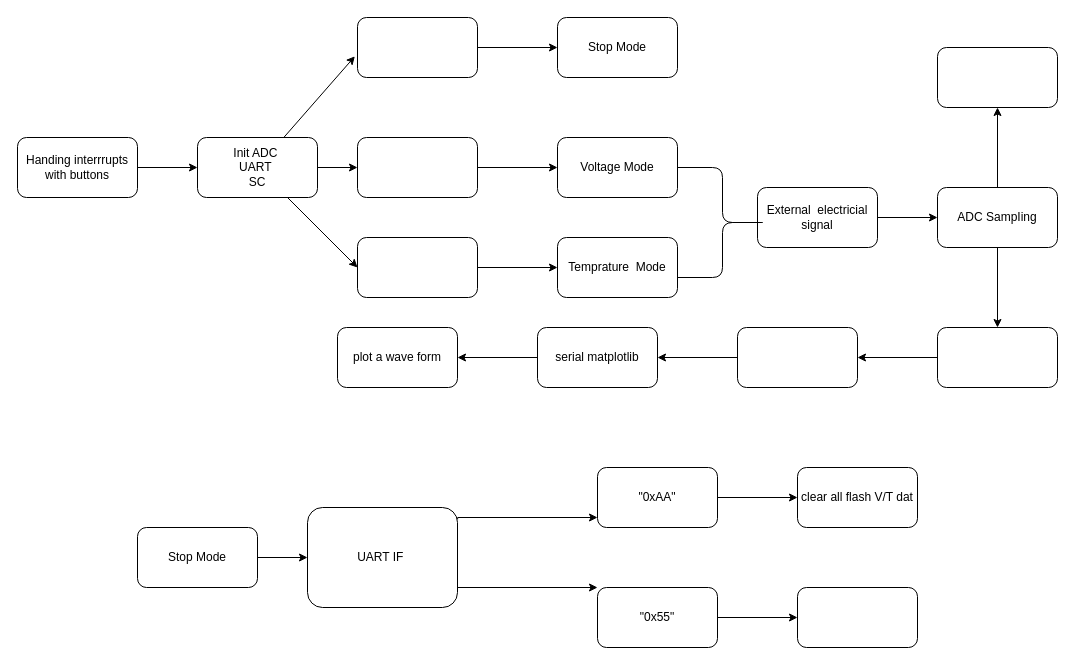
Some shapes in this 1075 by 665 pixel diagram are drawn without their labels. The centre of each missing label's shape, as x and y in pixels:
adcmode==0: (417,47)
adcmode==1: (417,167)
adcmode==2: (417,267)
Flash Save Data: (997,77)
PC: (797,357)
send all dat in flash: (857,617)
UART Send Data: (997,357)
